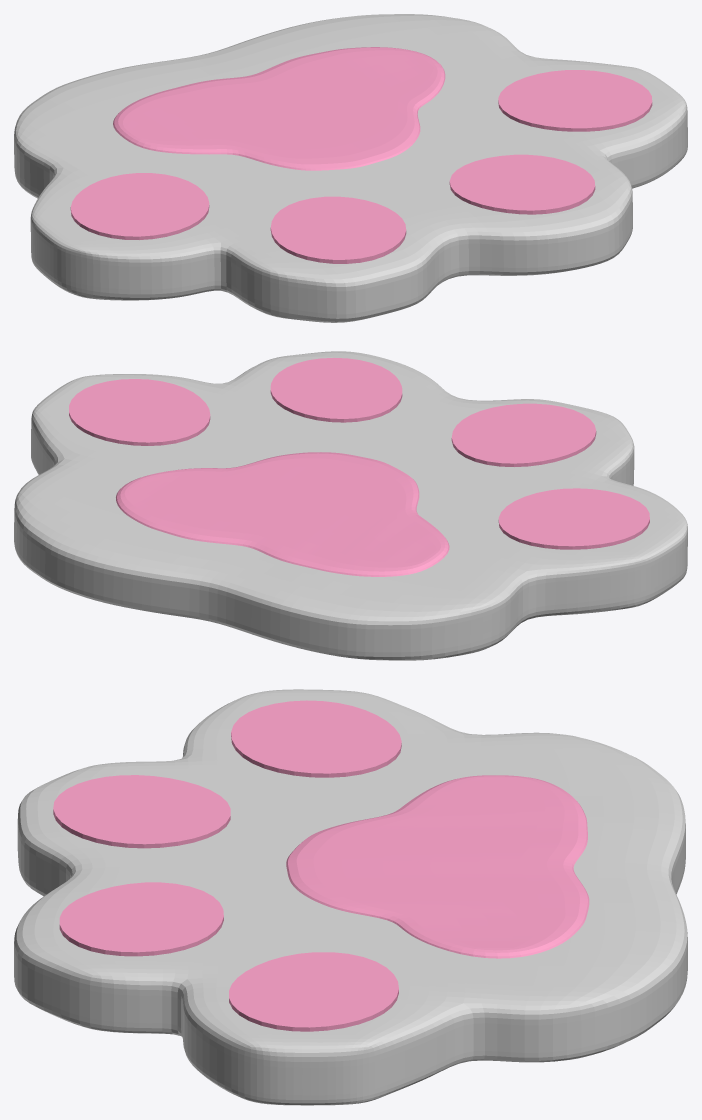
Rendered from PAW.fbx.
3 renders of one model, top to bottom at view 1: azimuth 30°, elevation 25°; view 2: azimuth 150°, elevation 25°; view 3: azimuth 270°, elevation 25°, orthographic. The views are drawn at different scales.
Visible parts, largest first — view 1: paw, Circle.001; view 2: paw, Circle.001; view 3: paw, Circle.001.
Boxes of the visible parts, x1,y1,x2,y2 form: paw: (14,14,687,322); Circle.001: (70,47,652,263); paw: (14,351,687,660); Circle.001: (69,357,649,576); paw: (14,689,687,1105); Circle.001: (53,700,589,1031).
Bounding box in the file's own units: 410 × 34.06 × 322.
